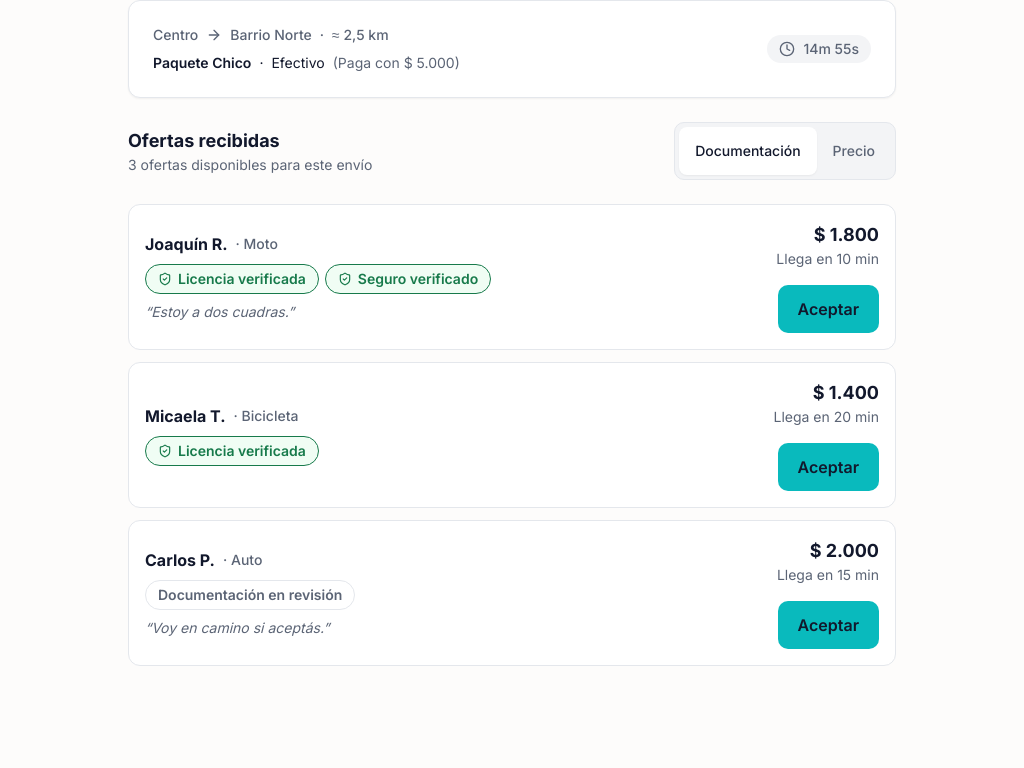
T-113 DoD: UI de ofertas en tiempo real y aceptación › T-365: defensa de ofertas elegibles y estados terminales en RequestOffersList › cierra modal y bloquea confirmación si request deja de ser published
Click the button "Aceptar" below "10". click: (828, 309)
box: [778,285,879,333]
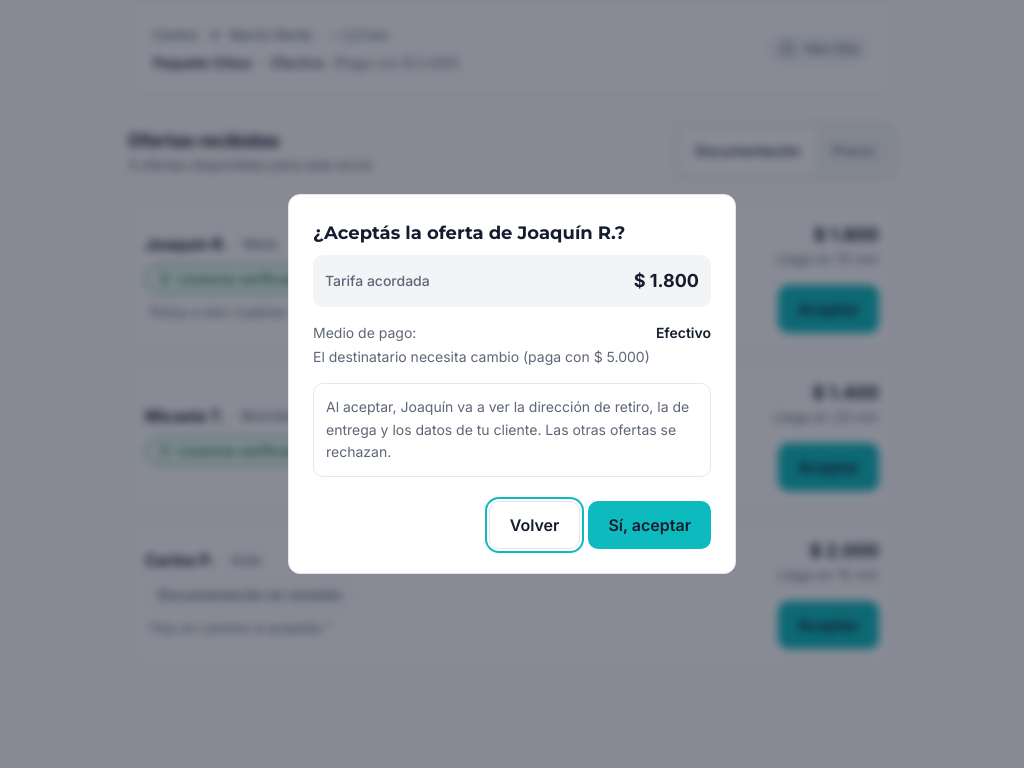
Expected: the heading "¿Aceptás la oferta de Joaquín R.?" is shown, [313,222,625,244]
